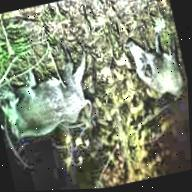boar: (0, 26, 109, 162), (116, 24, 189, 112)
